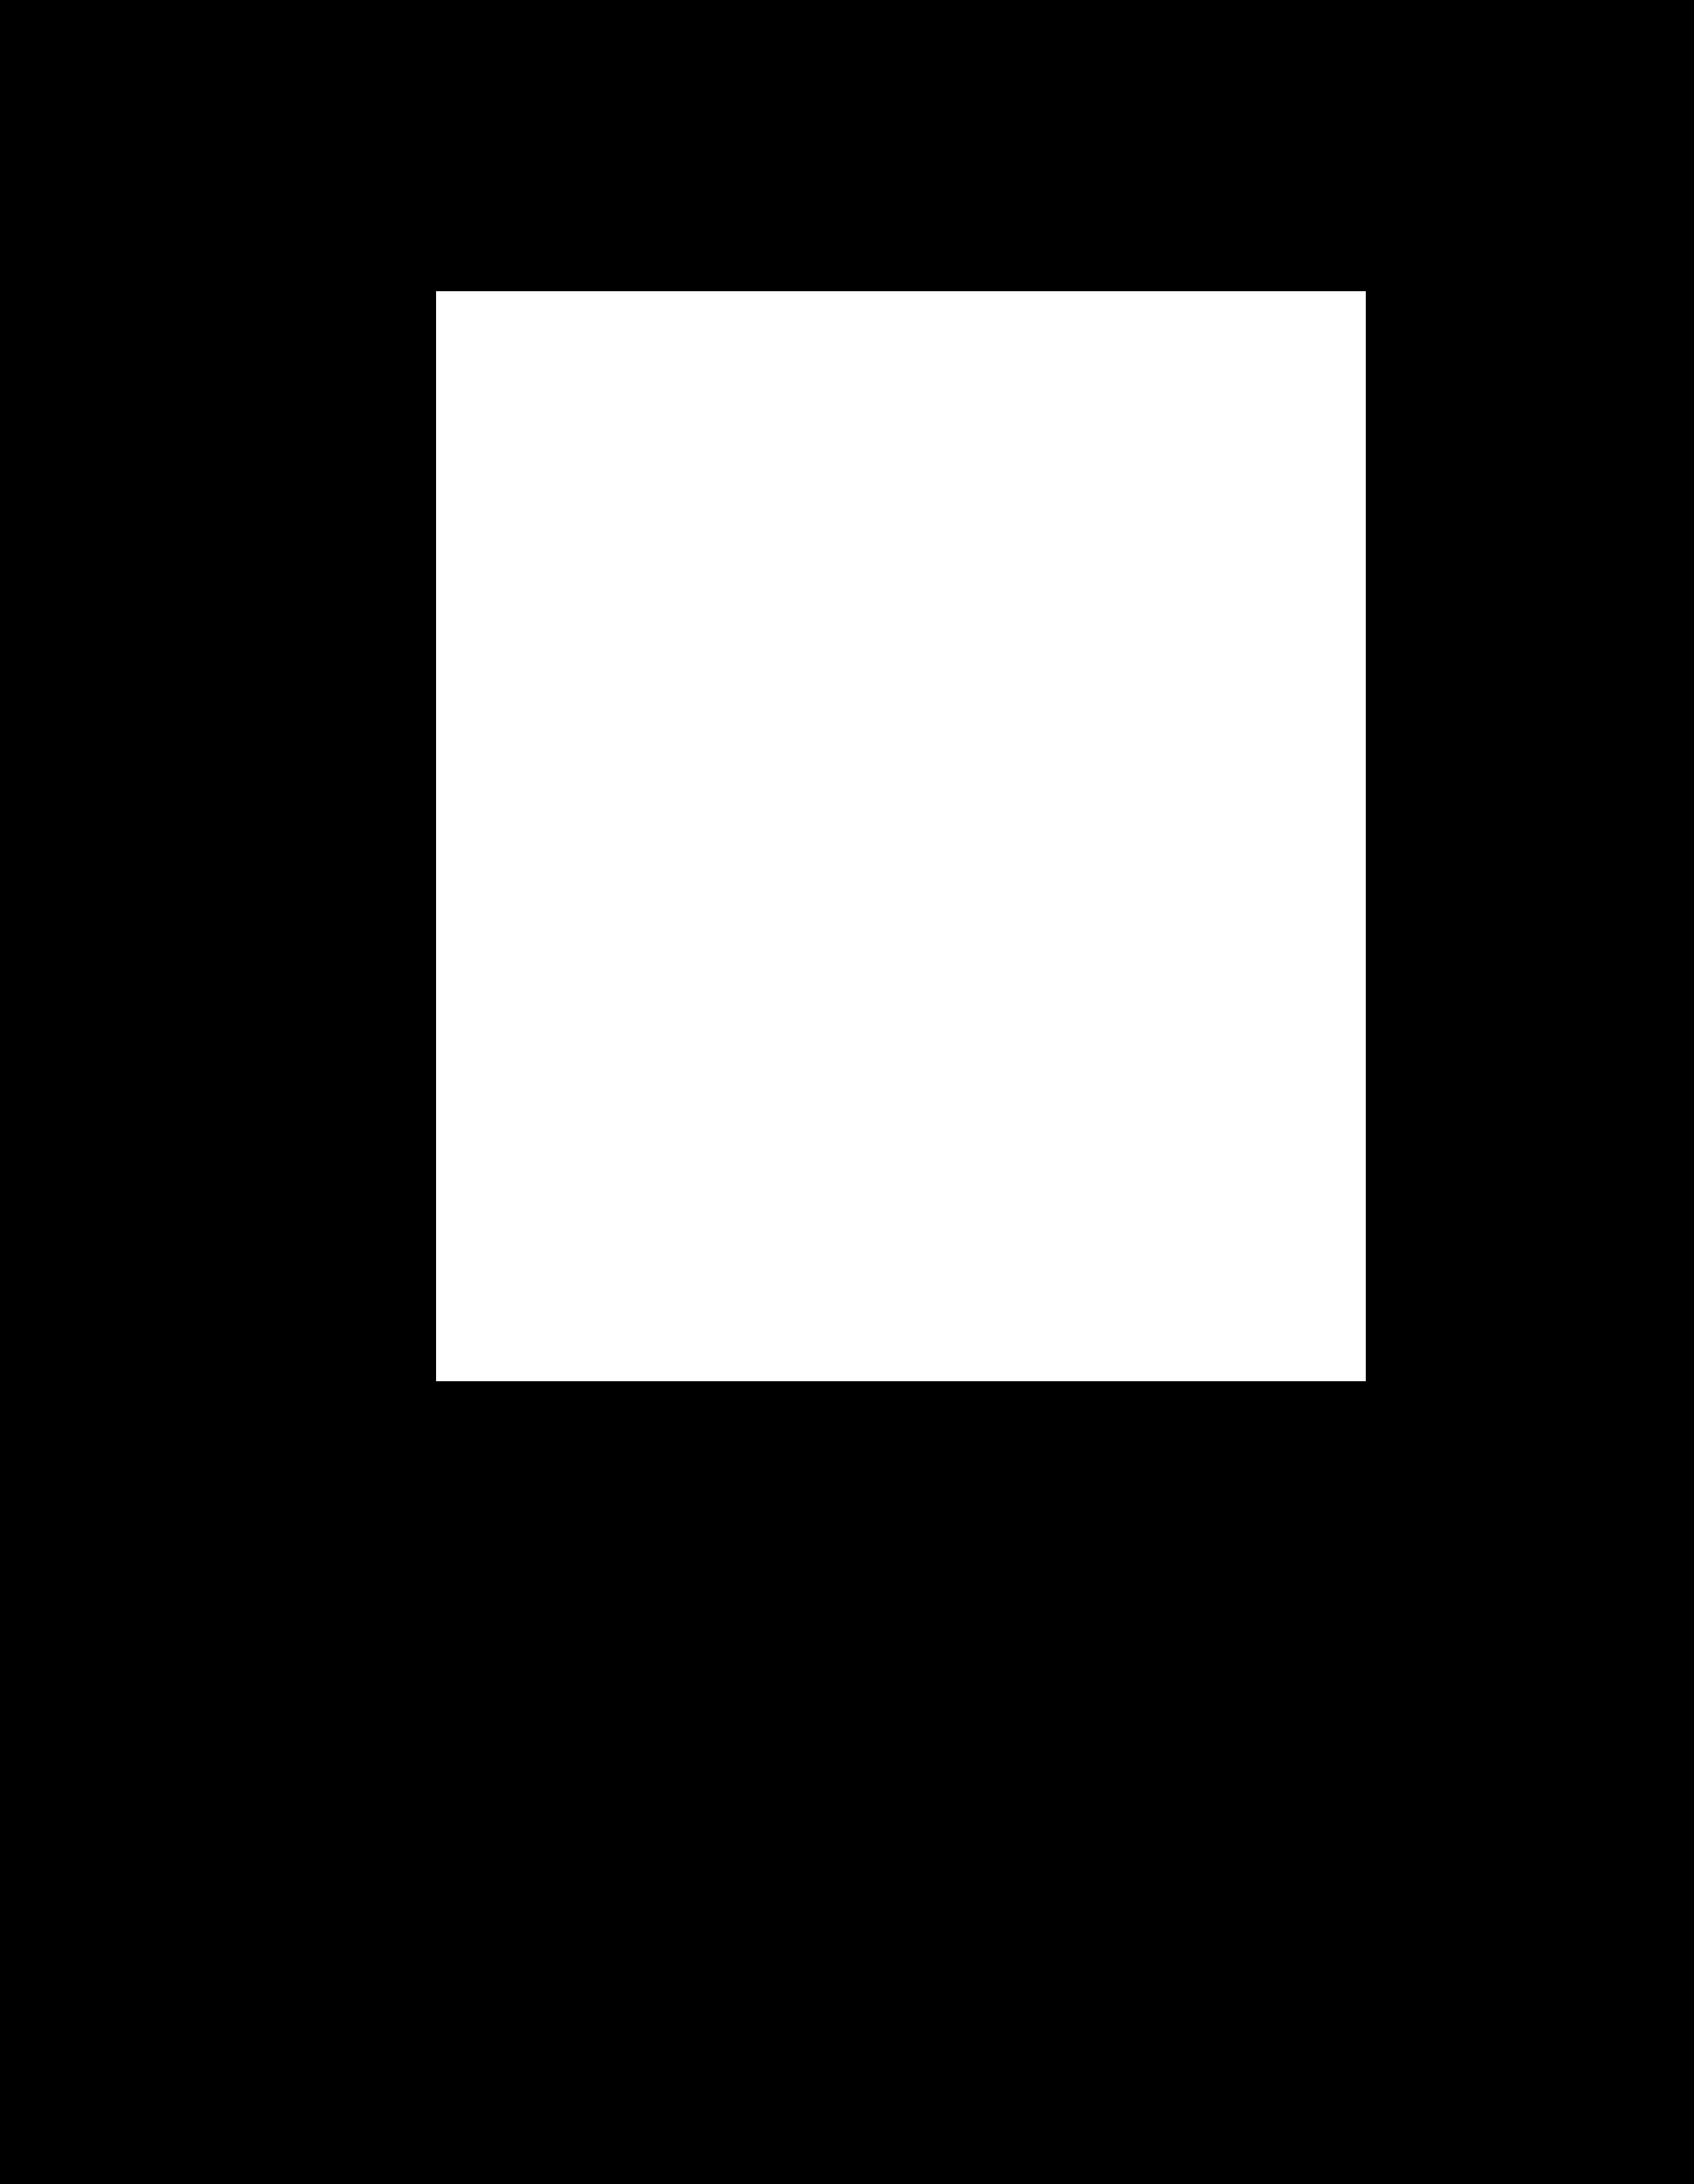table: (436, 291, 1364, 1381)
